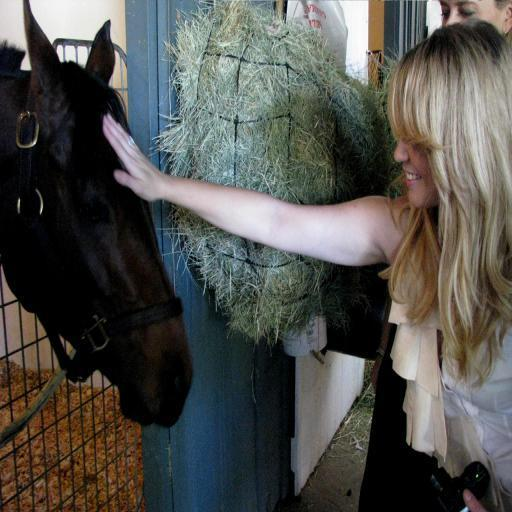horse: (0, 0, 194, 429)
